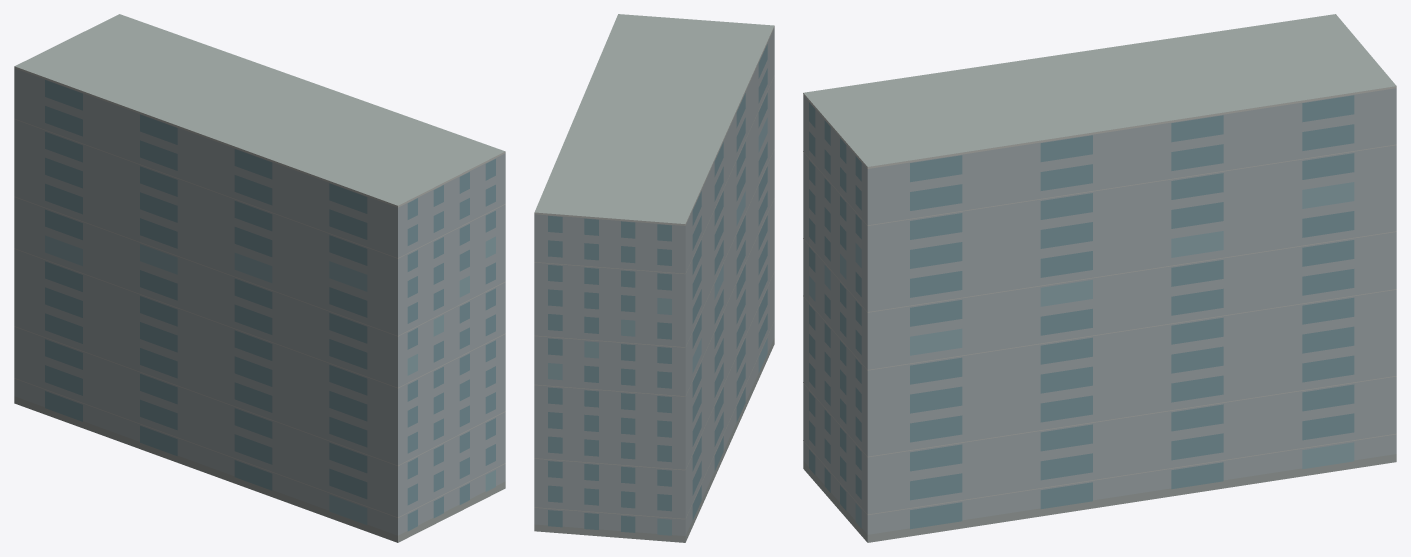
File: residential-d8e7c419-562a-4b41-ace7-1ae196e0ed1e.glb
3 renders of one model, left to right at view 1: azimuth 30°, elevation 25°; view 2: azimuth 150°, elevation 25°; view 3: azimuth 270°, elevation 25°, orthographic. The views are drawn at different scales.
Visible parts, largest first — view 1: residential-d8e7c419-562a-4b41-ace7-1ae196e0ed1e.tmp; view 2: residential-d8e7c419-562a-4b41-ace7-1ae196e0ed1e.tmp; view 3: residential-d8e7c419-562a-4b41-ace7-1ae196e0ed1e.tmp.
Part boxes in pixels (x1=…): residential-d8e7c419-562a-4b41-ace7-1ae196e0ed1e.tmp: x1=14, y1=14, x2=505, y2=542; residential-d8e7c419-562a-4b41-ace7-1ae196e0ed1e.tmp: x1=534, y1=14, x2=774, y2=542; residential-d8e7c419-562a-4b41-ace7-1ae196e0ed1e.tmp: x1=803, y1=14, x2=1396, y2=542.
Bounding box in the file's own units: 38.42 × 44 × 62.98.
